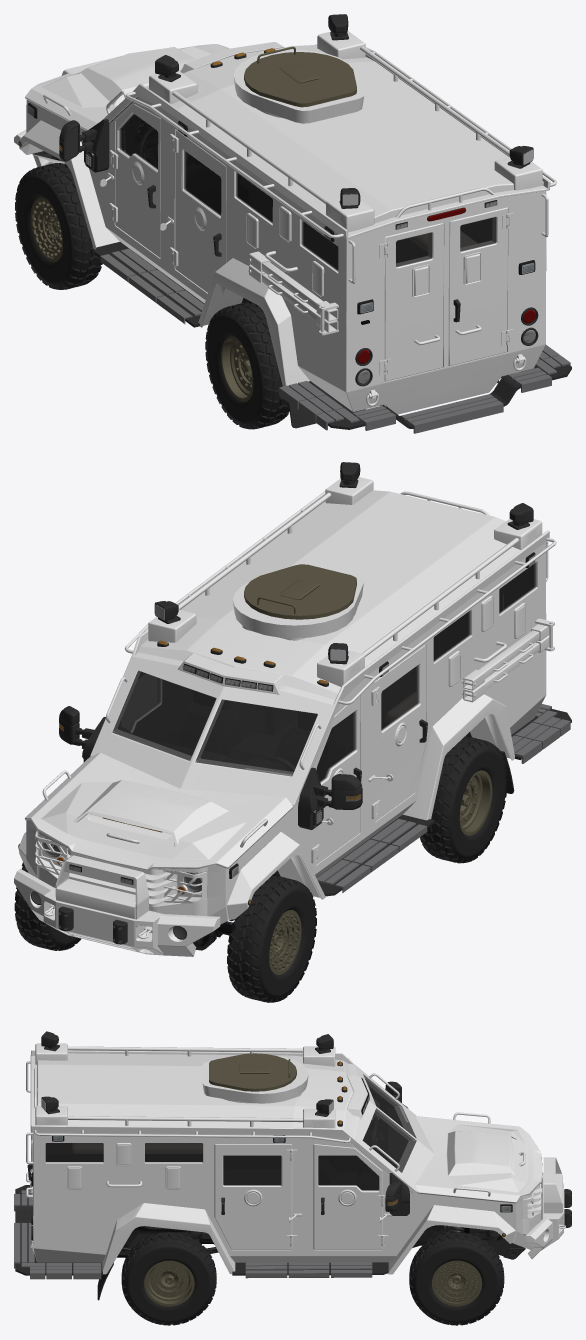
Rendered from SWAT Armored Truck 2011.glb.
3 views of the same model, one above another, from view 1: azimuth 30°, elevation 25°; view 2: azimuth 150°, elevation 25°; view 3: azimuth 270°, elevation 25° (orthographic). The views are drawn at different scales.
Parts seen in each view (by area): view 1: Top1.010, Back1.010, Left1.010, Step, Misc.003, Windows.009, BulletProof4, BulletProof3, COLOR.001, Interior.010, Interior.011, Rim3.010 (+1 smaller); view 2: Top1.010, Left1.010, Front1.010, Windows.009, Misc.003, BulletProof4, Interior.010, Interior.011, BulletProof3, COLOR.001, Step, BulletProof1 (+2 smaller); view 3: Right1.010, Top1.010, Windows.009, BulletProof1, BulletProof2, Misc.003, Step, Interior.011, COLOR.001, Interior.010, Front1.010, Rim2.010 (+4 smaller).
Boxes of the visible parts, x1=… form: Top1.010: x1=17, y1=31, x2=556, y2=404; Back1.010: x1=20, y1=44, x2=556, y2=414; Left1.010: x1=14, y1=36, x2=554, y2=411; Step: x1=100, y1=248, x2=570, y2=433; Misc.003: x1=19, y1=14, x2=571, y2=429; Windows.009: x1=119, y1=113, x2=496, y2=271; BulletProof4: x1=15, y1=163, x2=102, y2=289; BulletProof3: x1=205, y1=302, x2=289, y2=429; COLOR.001: x1=244, y1=46, x2=356, y2=107; Interior.010: x1=122, y1=115, x2=272, y2=221; Interior.011: x1=109, y1=97, x2=491, y2=269; Rim3.010: x1=221, y1=336, x2=253, y2=401; Top1.010: x1=14, y1=477, x2=555, y2=953; Left1.010: x1=30, y1=482, x2=556, y2=956; Front1.010: x1=14, y1=490, x2=553, y2=956; Windows.009: x1=112, y1=562, x2=536, y2=782; Misc.003: x1=18, y1=462, x2=571, y2=944; BulletProof4: x1=227, y1=875, x2=316, y2=1002; Interior.010: x1=118, y1=691, x2=345, y2=780; Interior.011: x1=119, y1=564, x2=533, y2=754; BulletProof3: x1=420, y1=736, x2=507, y2=863; COLOR.001: x1=244, y1=564, x2=356, y2=619; Step: x1=316, y1=704, x2=570, y2=892; BulletProof1: x1=14, y1=862, x2=80, y2=950; Right1.010: x1=26, y1=1047, x2=563, y2=1274; Top1.010: x1=26, y1=1043, x2=565, y2=1250; Windows.009: x1=45, y1=1074, x2=416, y2=1190; BulletProof1: x1=409, y1=1231, x2=504, y2=1325; BulletProof2: x1=121, y1=1231, x2=216, y2=1325; Misc.003: x1=15, y1=1031, x2=571, y2=1300; Step: x1=14, y1=1183, x2=372, y2=1279; Interior.011: x1=46, y1=1087, x2=393, y2=1184; COLOR.001: x1=209, y1=1053, x2=296, y2=1091; Interior.010: x1=318, y1=1106, x2=407, y2=1189; Front1.010: x1=28, y1=1054, x2=565, y2=1273; Rim2.010: x1=144, y1=1260, x2=194, y2=1306.
Bounding box in the file's own units: 10.91 × 10.03 × 23.28.
Materials: 34 (6 with a texture image).
